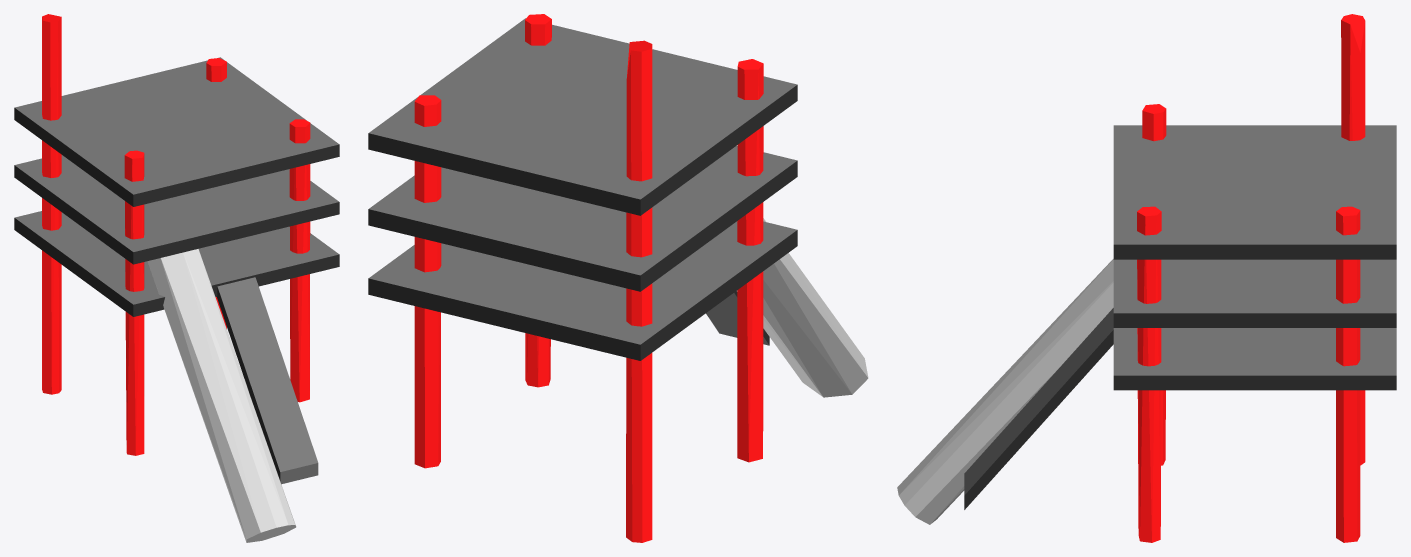
File: DefualtBuildSite.fbx
The picture shows the model from 3 angles, left to right: view 1: azimuth 30°, elevation 25°; view 2: azimuth 150°, elevation 25°; view 3: azimuth 270°, elevation 25°; orthographic projection. The views are drawn at different scales.
Visible parts, largest first — view 1: Cube; view 2: Cube; view 3: Cube.
Boxes of the visible parts, x1,y1,x2,y2 form: Cube: [14, 14, 339, 542]; Cube: [368, 14, 868, 542]; Cube: [897, 14, 1396, 542].
Size of the model in its own units: 200 by 374 by 353.
